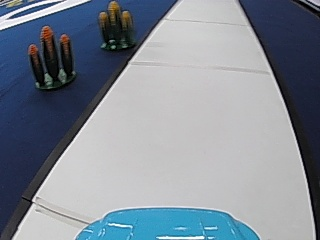corn: (29, 24, 76, 90), (97, 0, 135, 51)
